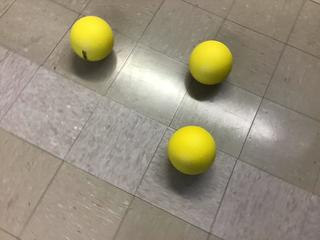power_cell: (166, 124, 219, 182), (68, 13, 116, 64), (187, 37, 232, 86)
